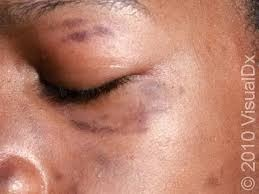Melasma: (151, 8, 194, 135), (39, 15, 124, 54)
